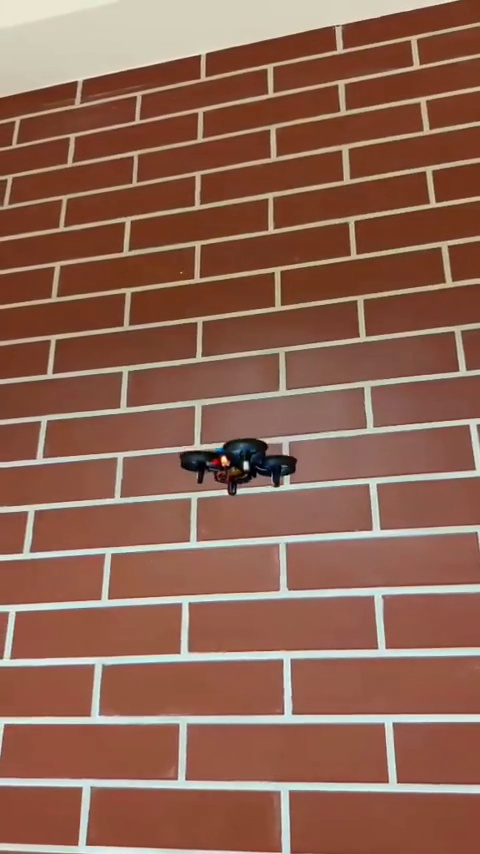drone: (181, 436, 291, 500)
